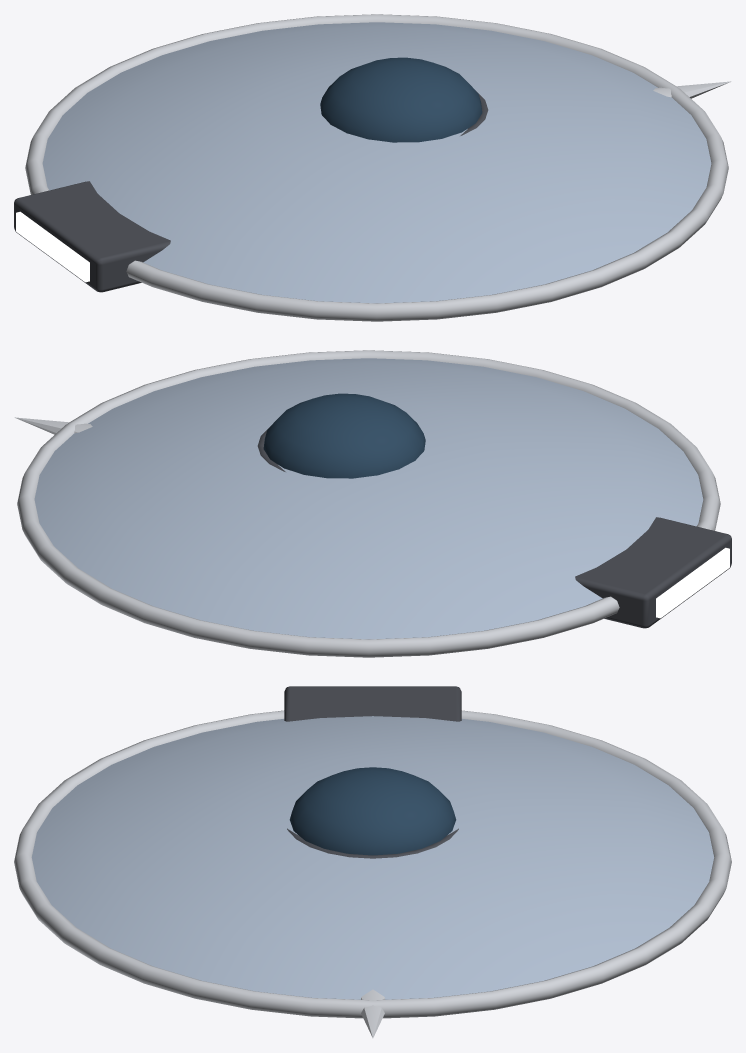
File: saucer_small.glb
3 views of the same model, one above another, from view 1: azimuth 30°, elevation 25°; view 2: azimuth 150°, elevation 25°; view 3: azimuth 270°, elevation 25° (orthographic). The views are drawn at different scales.
Parts seen in each view (by area): view 1: saucer_small; view 2: saucer_small; view 3: saucer_small.
Boxes of the visible parts, x1,y1,x2,y2 form: saucer_small: (14,14,731,321); saucer_small: (14,350,731,657); saucer_small: (14,686,731,1037).
Bounding box in the file's own units: 1 × 0.2004 × 0.8945.
